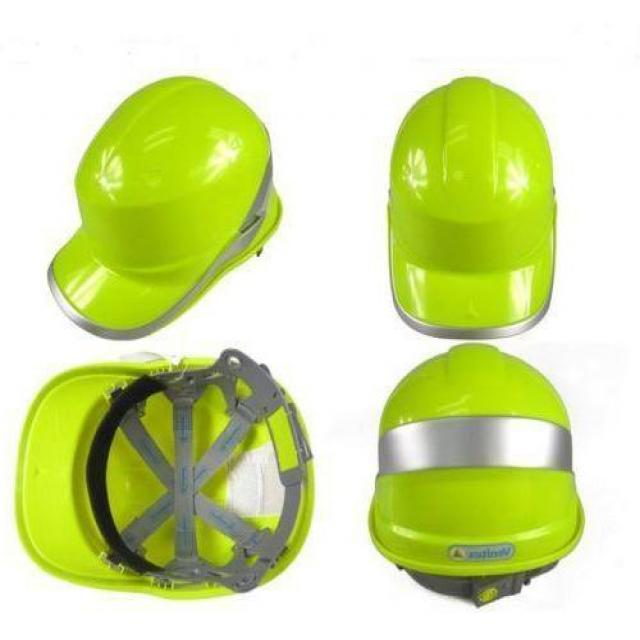Safety-Helmet: (0, 348, 337, 599), (39, 68, 298, 334), (361, 342, 591, 603), (375, 70, 570, 343)
